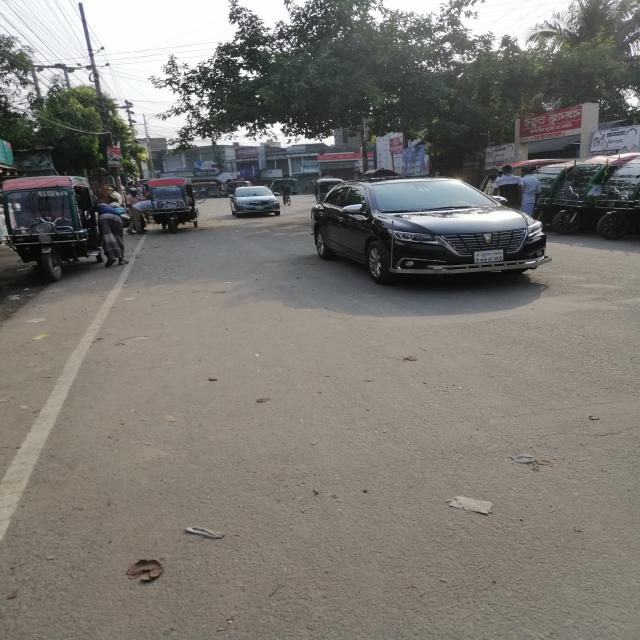Car: (304, 169, 554, 293)
